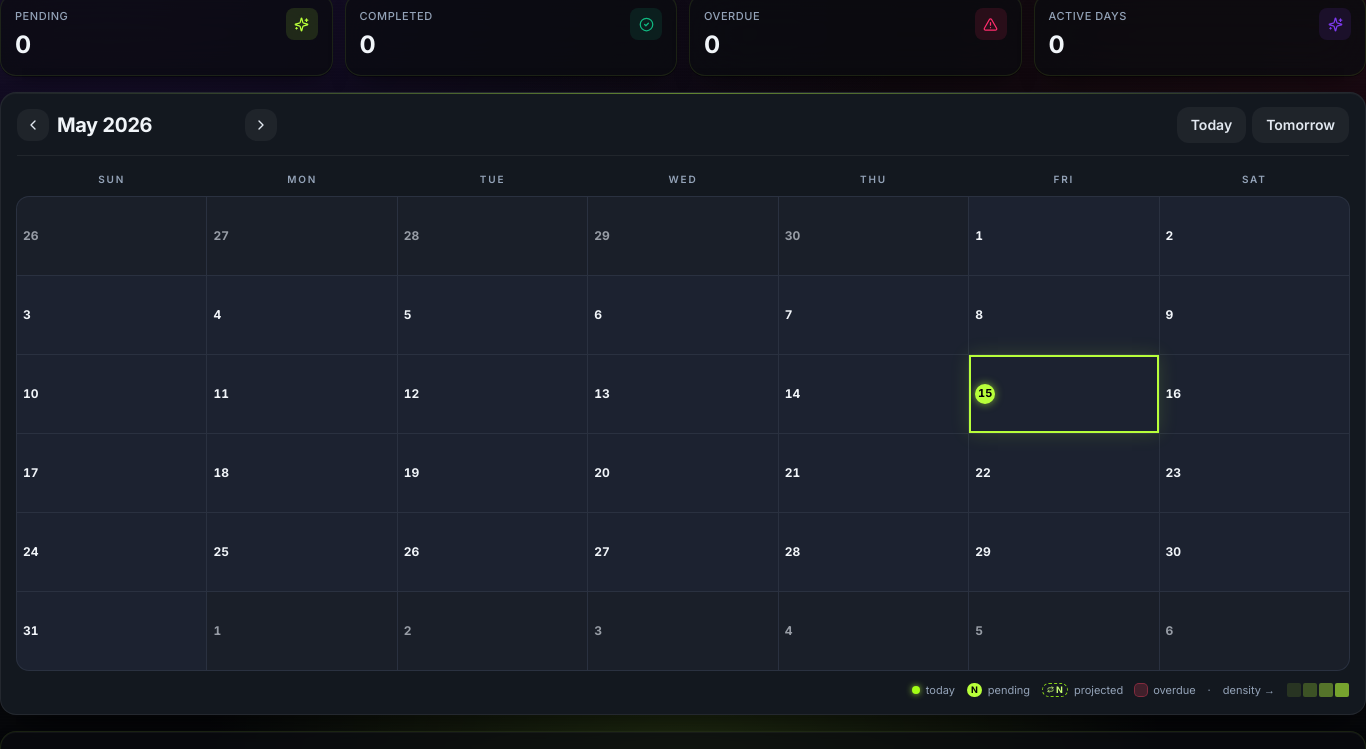
Scenario: Calendar · day cells › clicking a different day cell updates the detail panel
This screenshot has width=1366, height=749.
Click the button "22".
click(1064, 472)  # box [969,434,1158,512]
(page scrolled)
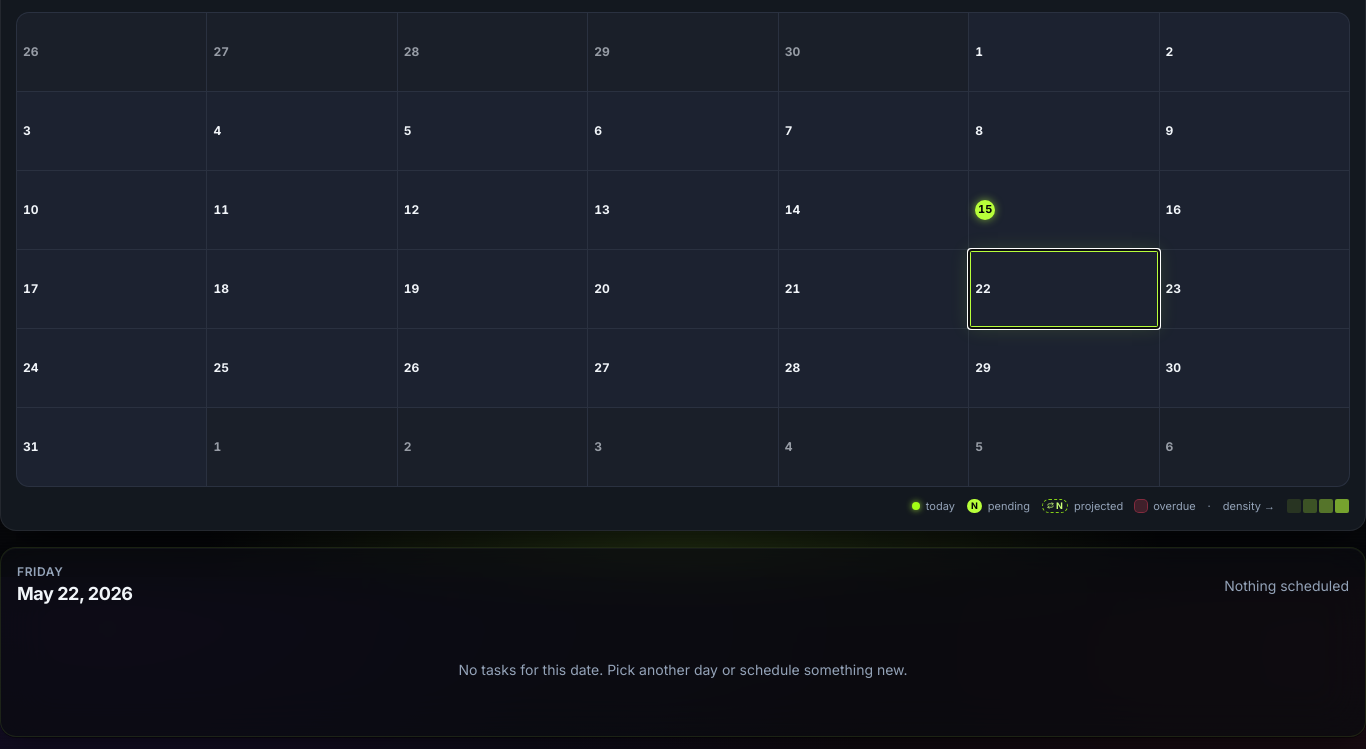
Now the heading "May 22, 2026" is shown, box [17,580,132,608]
